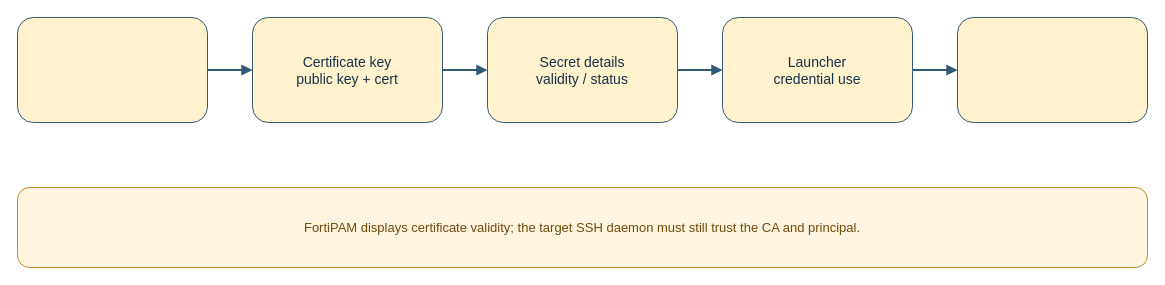
Some shapes in this 1165 by 285 pixel diagram are drawn without their labels. Each missing label, with the centre of its shape:
"SSH target CA / principal check" belongs at (1052,69).
"SSH-key template FortiProduct / Unix" belongs at (112,69).
